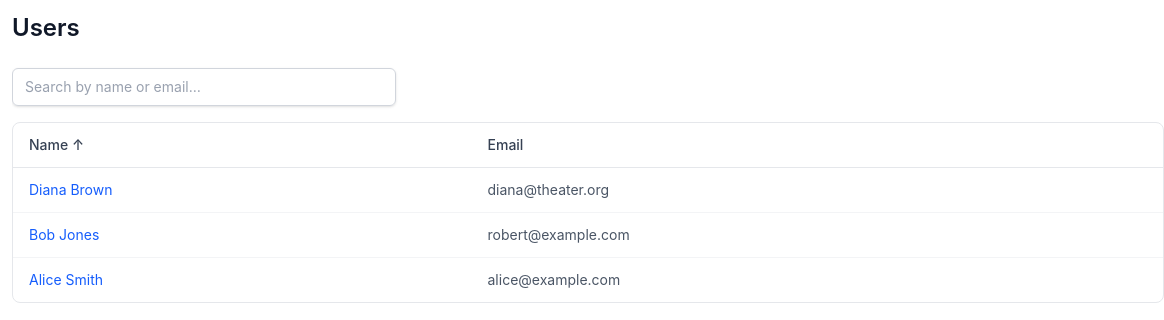
Test: UsersList search filtering › filters by preferred name
The image size is (1164, 320).
In the search field with placeholder "Search by name or email…": (204, 87) [12,68,396,106], type "Bob"
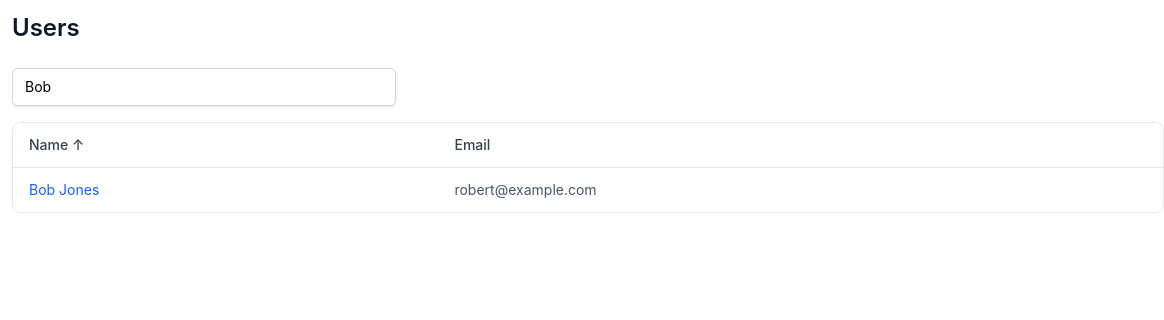
Check: the link "Bob Jones" is shown, box [29,181,99,198]
Check: the link "Alice Smith" is gone
